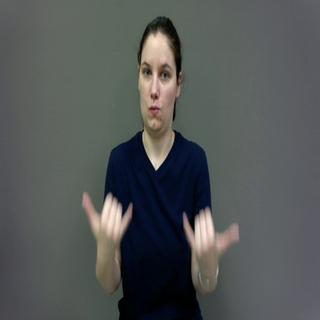now: (76, 191, 245, 258)
